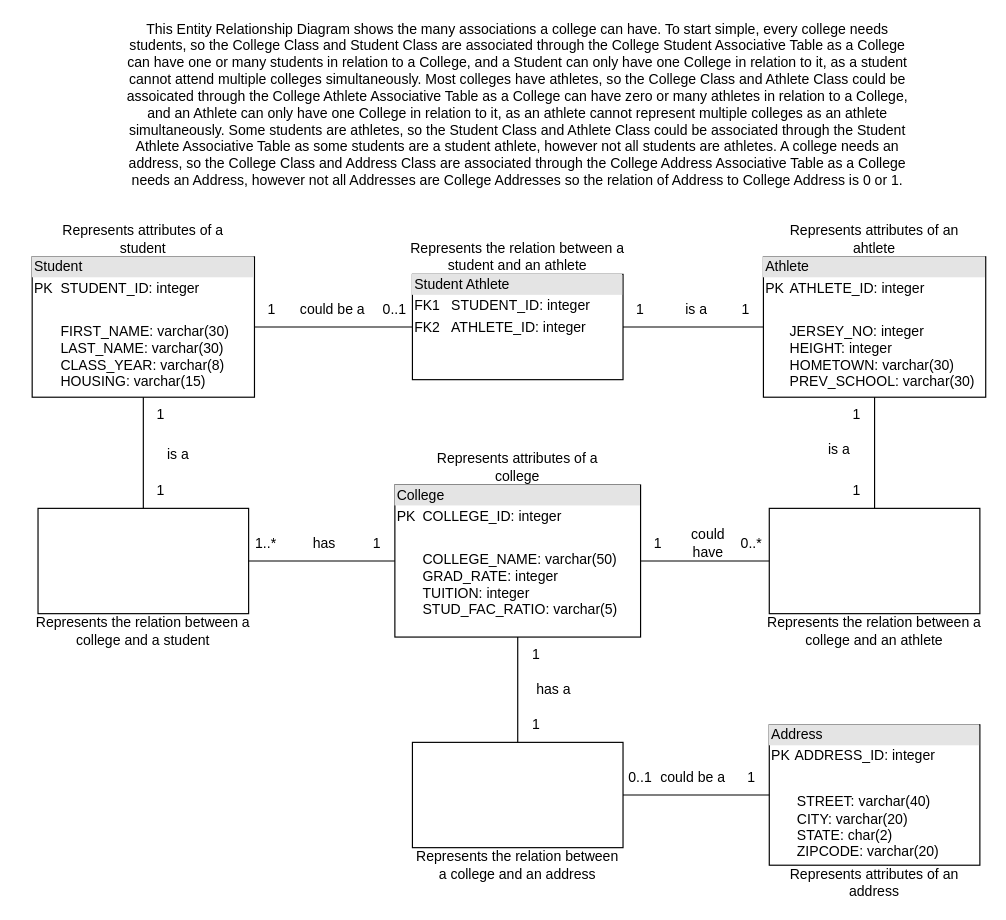
The diagram is 1006 pixels wide and 920 high, and some of its shapes have lost their labels. The centre of each missing label's shape, as x and y in pixels:
College Address FK1 ADDRESS_ID: integer FK2 COLLEGE_ID: integer: point (517, 794)
College Athlete FK1 ATHLETE_ID: integer FK2 COLLEGE_ID: integer: point (874, 560)
College Student FK1 STUDENT_ID: integer FK2 COLLEGE_ID: integer: point (143, 560)
